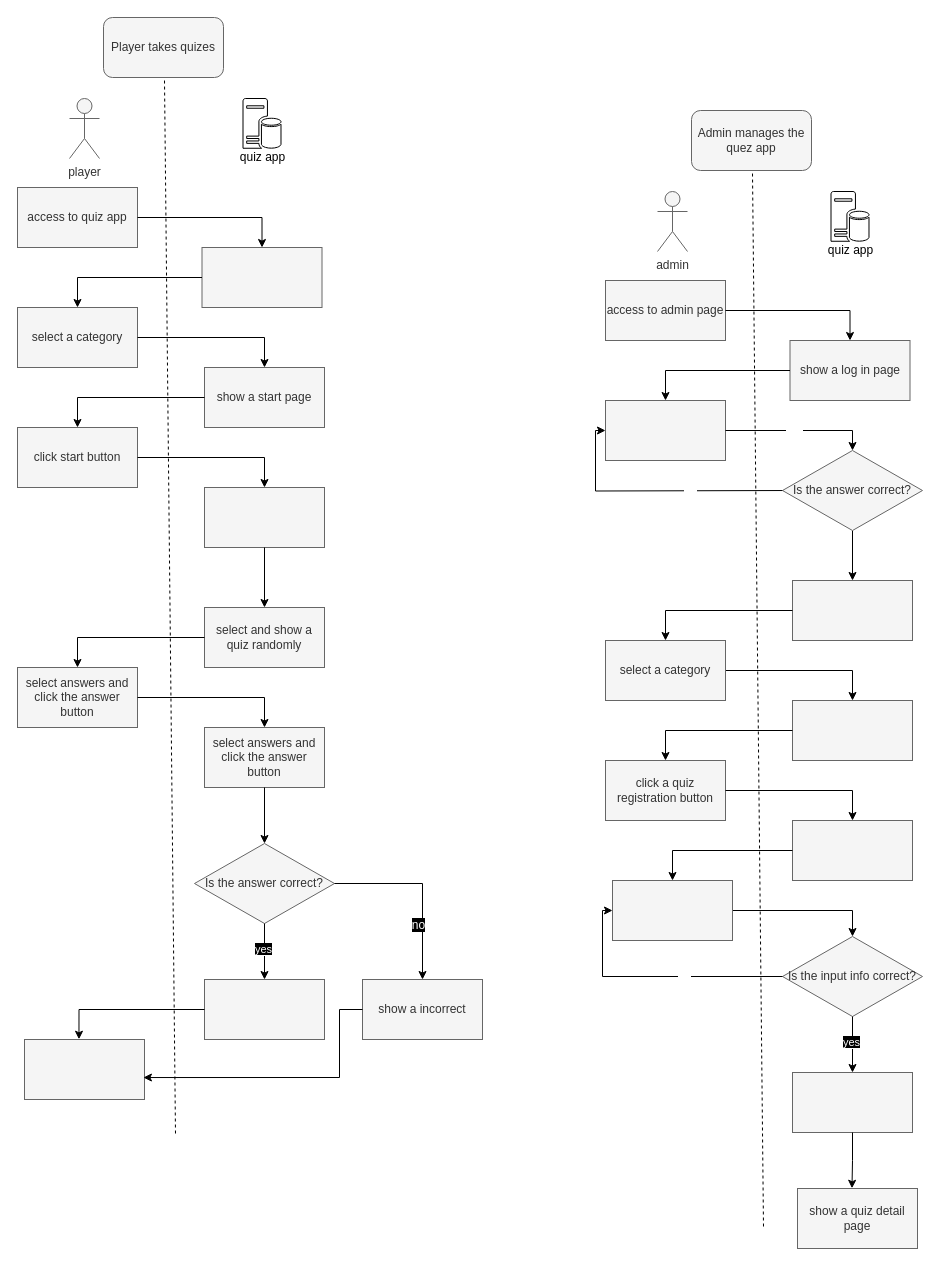
Image size: 940x1266. Some labels were removed from this diagram. Here are the shapes that lost their labels. From the top down, the centre of each, then its label:
At [261,277]: "show a category selection page".
At [665,430]: "input log in info and click a log in button".
At [264,517]: "select all quizes in the category".
At [852,610]: "show a admin top page".
At [852,730]: "show the category detail page".
At [852,850]: "show the create quiz page".
At [672,910]: "input question and selection, and click a create button".
At [264,1009]: "show a correct".
At [84,1069]: "check the result and go on to the next quiz".
At [852,1102]: "register the quiz".
